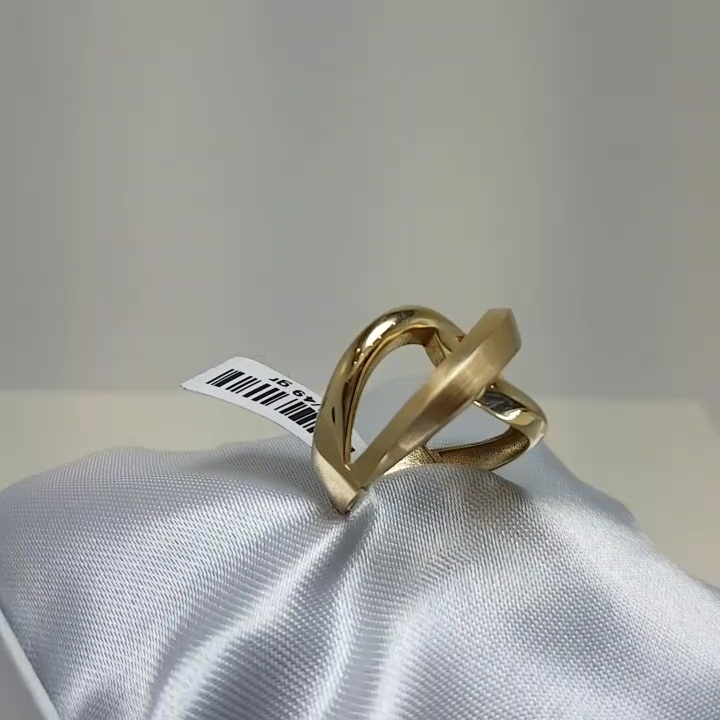Ring 3: (274, 264, 593, 547)
